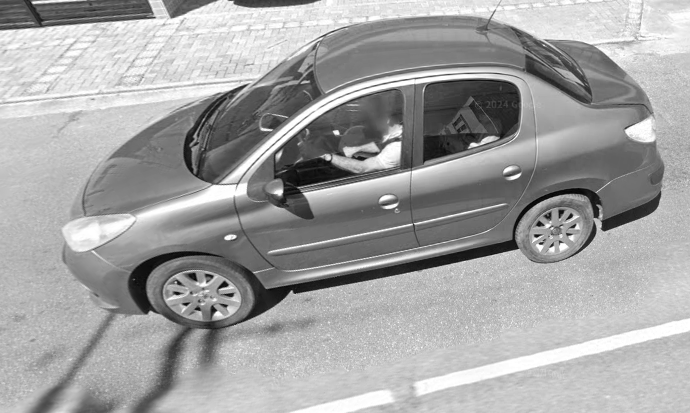car: (60, 1, 667, 331)
